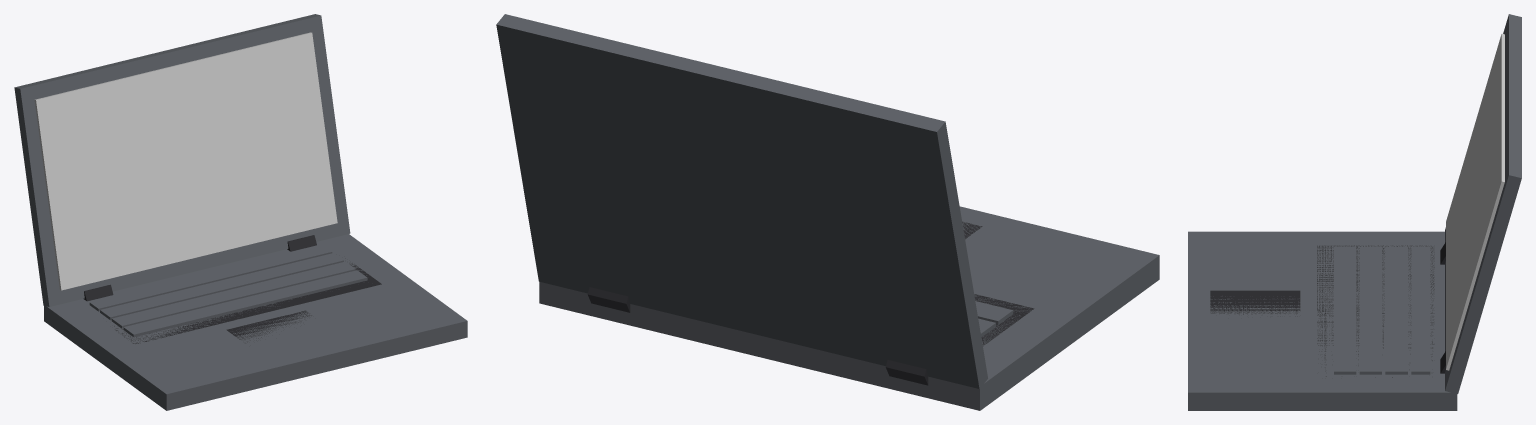
Rendered from FN_Laptop.obj.
3 renders of one model, left to right at view 1: azimuth 30°, elevation 25°; view 2: azimuth 150°, elevation 25°; view 3: azimuth 270°, elevation 25°, orthographic. The views are drawn at different scales.
Parts seen in each view (by area): view 1: FN_Laptop; view 2: FN_Laptop; view 3: FN_Laptop.
Part boxes in pixels (box(x1,y1,x2,y2)): FN_Laptop: box(14, 14, 467, 410); FN_Laptop: box(496, 14, 1159, 410); FN_Laptop: box(1188, 14, 1521, 410).
Size of the model in its own units: 0.34 by 0.2321 by 0.2977.
Materials: 2 (1 with a texture image).
